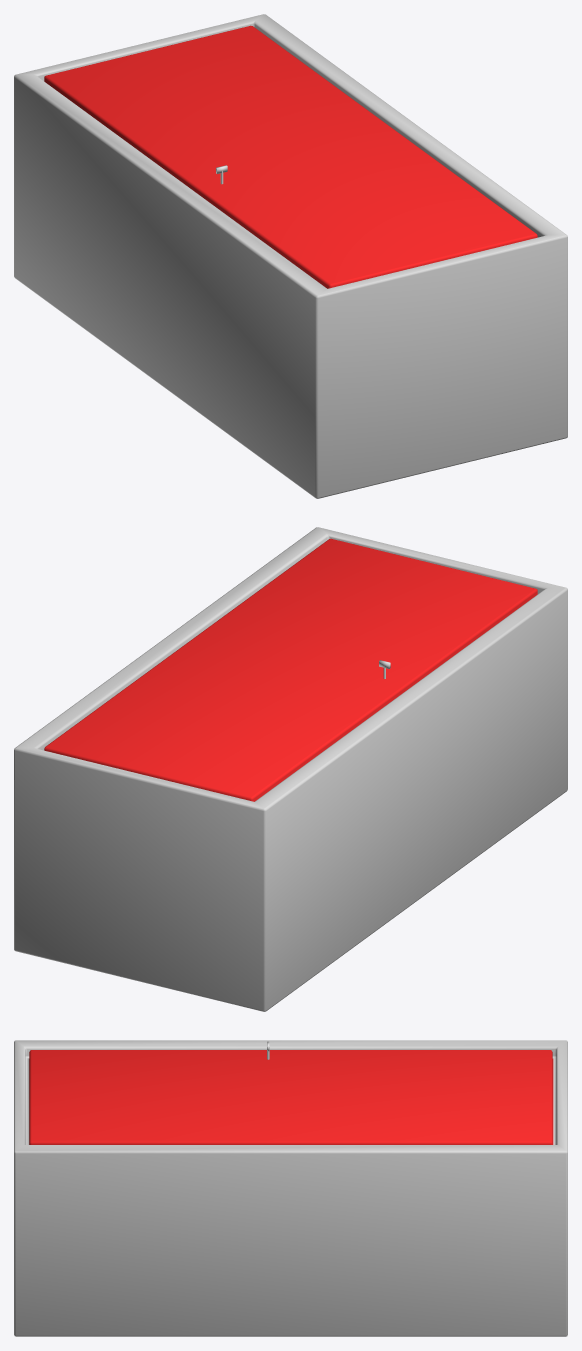
3 renders of one model, top to bottom at view 1: azimuth 30°, elevation 25°; view 2: azimuth 150°, elevation 25°; view 3: azimuth 270°, elevation 25°, orthographic. The views are drawn at different scales.
Visible parts, largest first — view 1: Circle; view 2: Circle; view 3: Circle.
Boxes of the visible parts, <box> form: Circle: <box>14,14,567,498</box>; Circle: <box>14,527,567,1011</box>; Circle: <box>14,1040,567,1336</box>.
Size of the model in its own units: 48 by 40.06 by 100.
